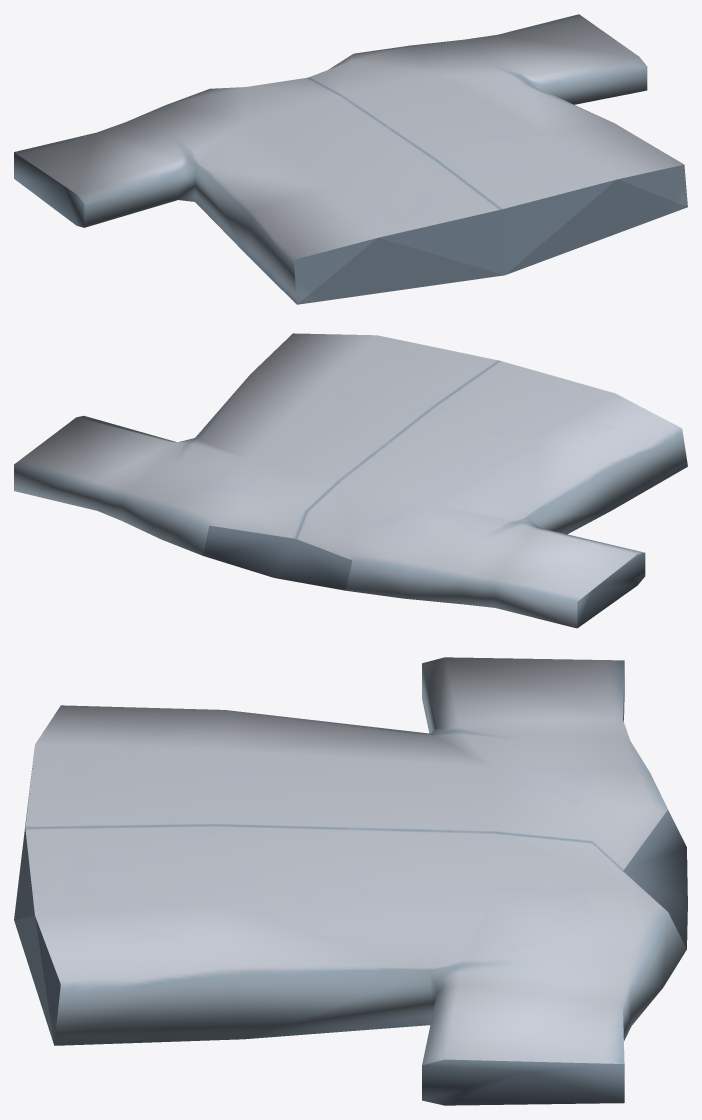
File: Avatar_Jacket_Base_Mod.FBX
3 views of the same model, one above another, from view 1: azimuth 30°, elevation 25°; view 2: azimuth 150°, elevation 25°; view 3: azimuth 270°, elevation 25° (orthographic). The views are drawn at different scales.
Parts seen in each view (by area): view 1: Avatar_Jacket_Base_Mod; view 2: Avatar_Jacket_Base_Mod; view 3: Avatar_Jacket_Base_Mod.
Part boxes in pixels (x1,y1,x2,y2): Avatar_Jacket_Base_Mod: (14,14,687,304); Avatar_Jacket_Base_Mod: (14,333,687,628); Avatar_Jacket_Base_Mod: (14,657,687,1105).
Bounding box in the file's own units: 87.37 × 9.58 × 61.64.
